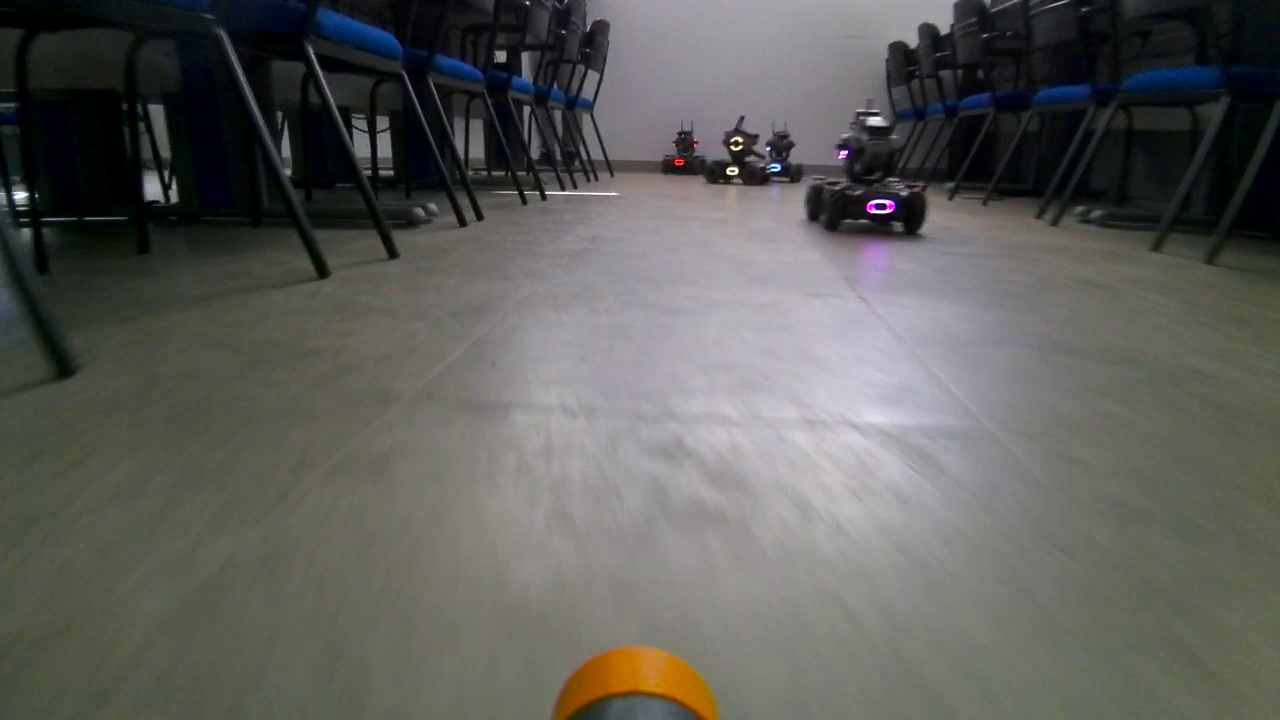robot: (800, 100, 929, 239), (702, 112, 770, 189), (756, 119, 810, 184), (660, 120, 709, 175)
